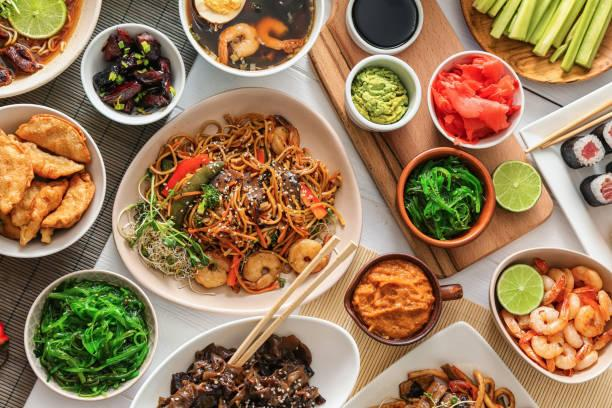Braised Crucian Carp: (113, 86, 360, 312), (126, 314, 356, 406), (489, 247, 611, 384), (2, 103, 108, 259), (180, 0, 326, 77)
